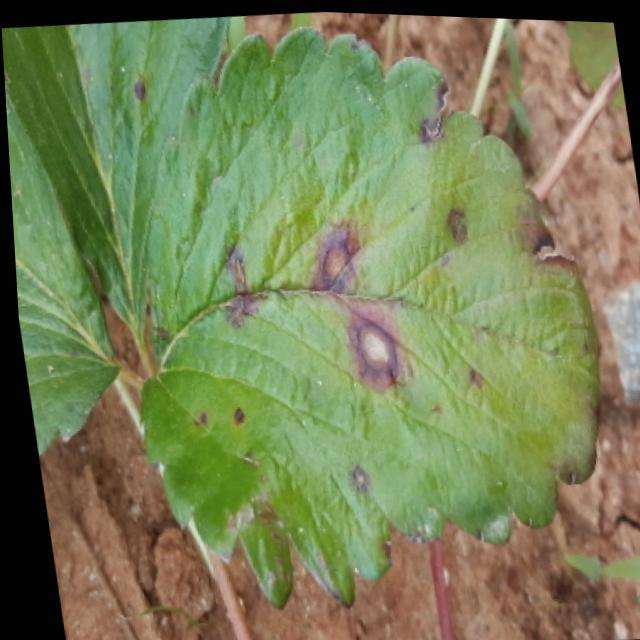Leaf Spot: (131, 22, 598, 607), (1, 13, 231, 345), (4, 91, 113, 451)
